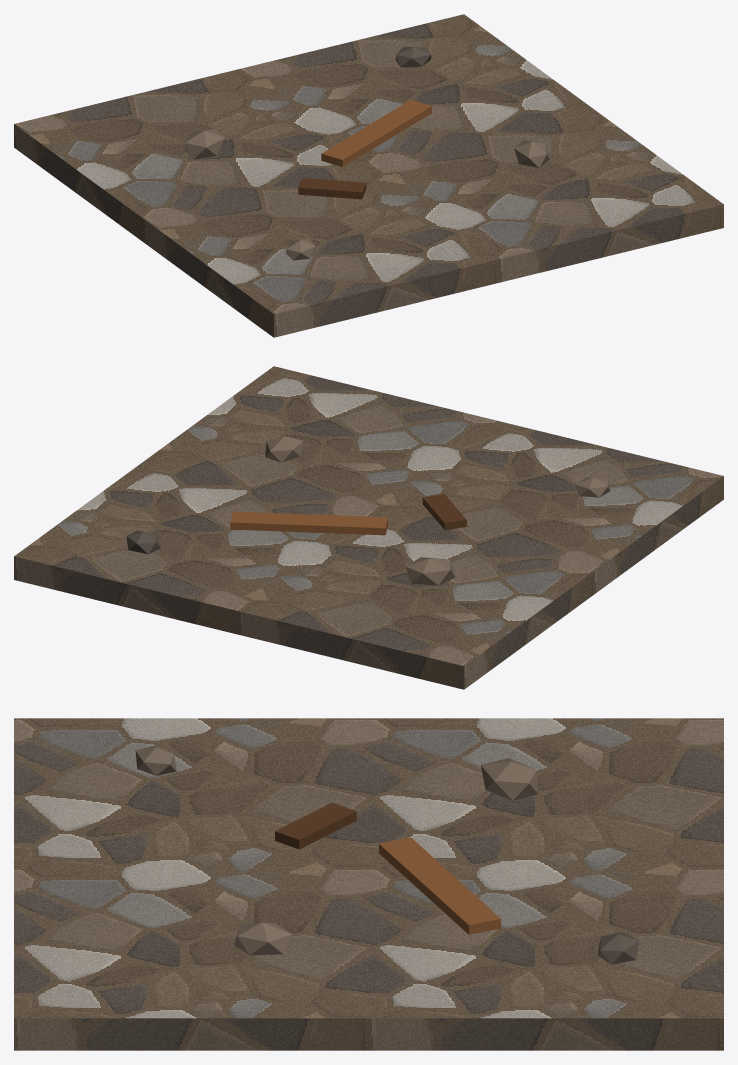
File: mine_floor_rubble.glb
3 renders of one model, top to bottom at view 1: azimuth 30°, elevation 25°; view 2: azimuth 150°, elevation 25°; view 3: azimuth 270°, elevation 25°, orthographic. The views are drawn at different scales.
Visible parts, largest first — view 1: mine_floor_rubble; view 2: mine_floor_rubble; view 3: mine_floor_rubble.
Boxes of the visible parts, x1,y1,x2,y2 form: mine_floor_rubble: [14, 14, 723, 337]; mine_floor_rubble: [14, 366, 723, 689]; mine_floor_rubble: [14, 718, 723, 1050].
Size of the model in its own units: 4 by 0.3963 by 4.
Materials: 5 (1 with a texture image).
